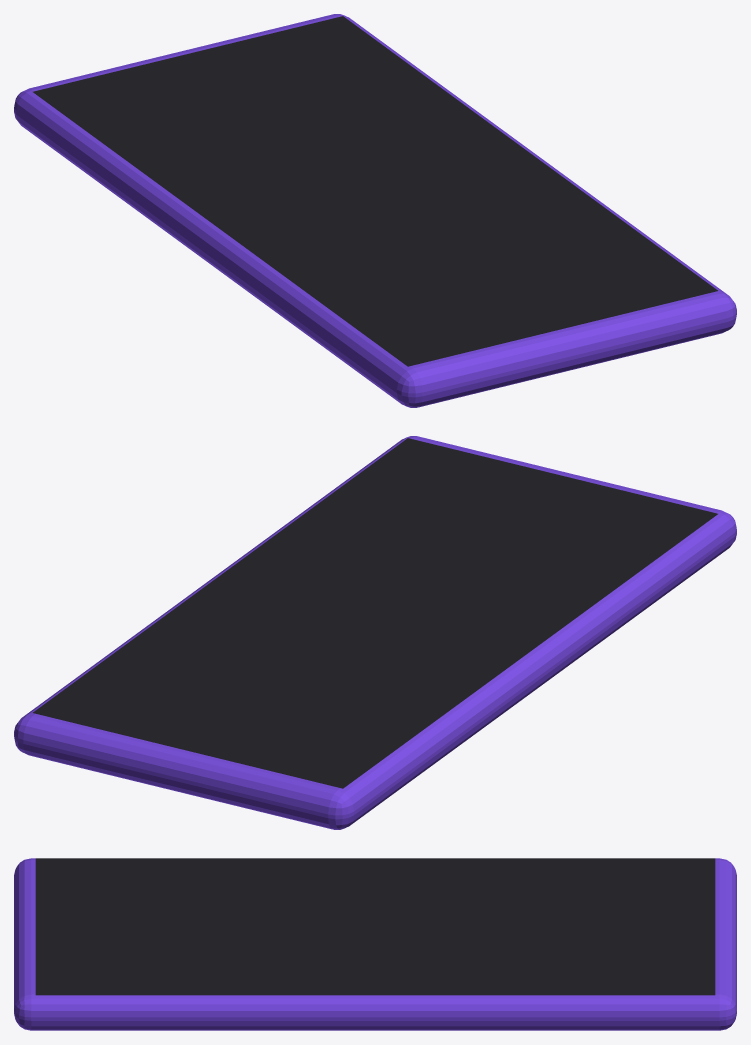
File: Phone_232.glb
3 views of the same model, one above another, from view 1: azimuth 30°, elevation 25°; view 2: azimuth 150°, elevation 25°; view 3: azimuth 270°, elevation 25° (orthographic). The views are drawn at different scales.
Parts seen in each view (by area): view 1: Phone_Screen, Phone_Body; view 2: Phone_Screen, Phone_Body; view 3: Phone_Screen, Phone_Body.
Boxes of the visible parts, bbox=[...] form: Phone_Screen: bbox=[33, 16, 717, 366]; Phone_Body: bbox=[14, 14, 736, 407]; Phone_Screen: bbox=[33, 438, 717, 788]; Phone_Body: bbox=[14, 436, 736, 829]; Phone_Screen: bbox=[35, 858, 715, 995]; Phone_Body: bbox=[14, 858, 736, 1030].
Bounding box in the file's own units: 0.0713 × 0.0078 × 0.1461.
